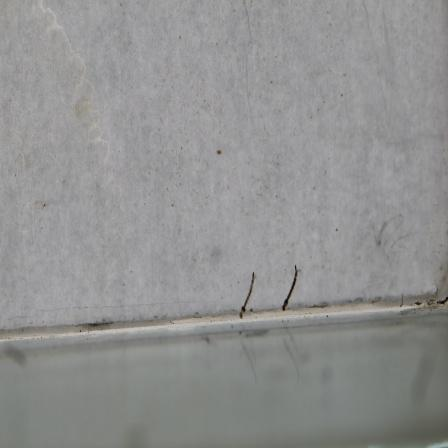Jentik-Nyamuk: (278, 261, 305, 314), (235, 269, 259, 322)
